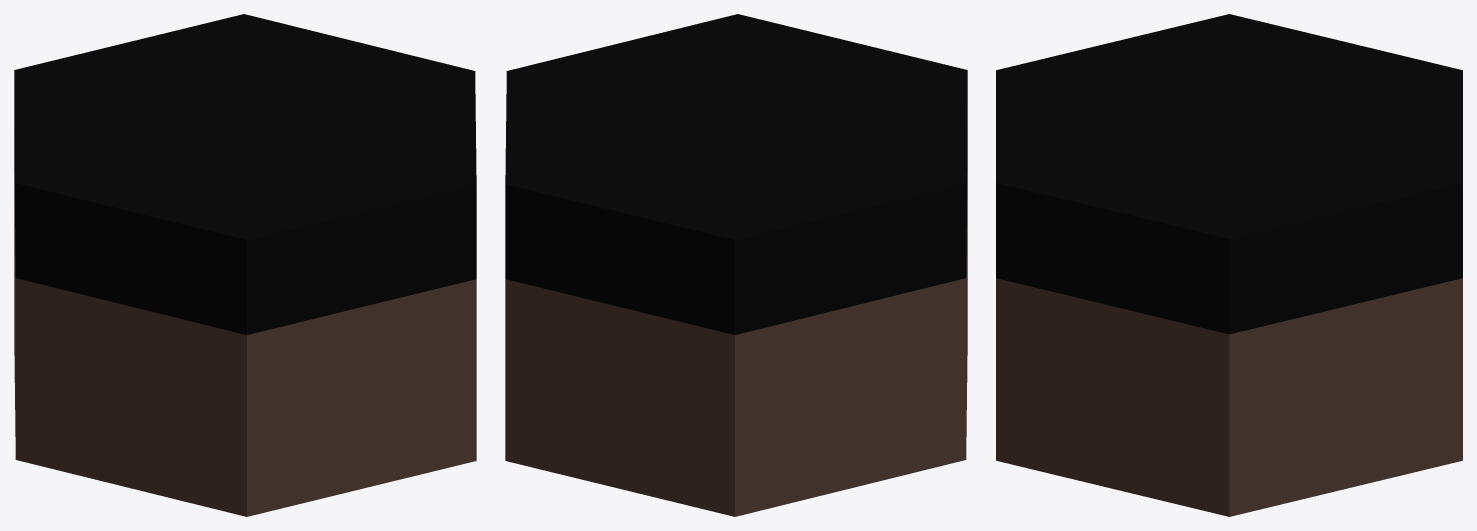
File: HexCell.fbx
The picture shows the model from 3 angles, left to right: view 1: azimuth 30°, elevation 25°; view 2: azimuth 150°, elevation 25°; view 3: azimuth 270°, elevation 25°; orthographic projection.
Visible parts, largest first — view 1: Ground; view 2: Ground; view 3: Ground.
Boxes of the visible parts, left/top/right/bottom form: Ground: left=14, top=14, right=476, bottom=516; Ground: left=505, top=14, right=967, bottom=516; Ground: left=996, top=14, right=1462, bottom=516.
Size of the model in its own units: 203 by 117 by 178.
